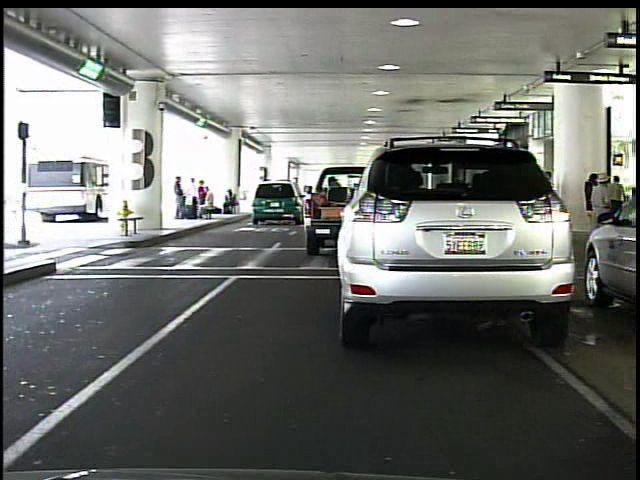person: (587, 169, 617, 253), (582, 163, 604, 239), (607, 173, 629, 234), (167, 171, 187, 224)
